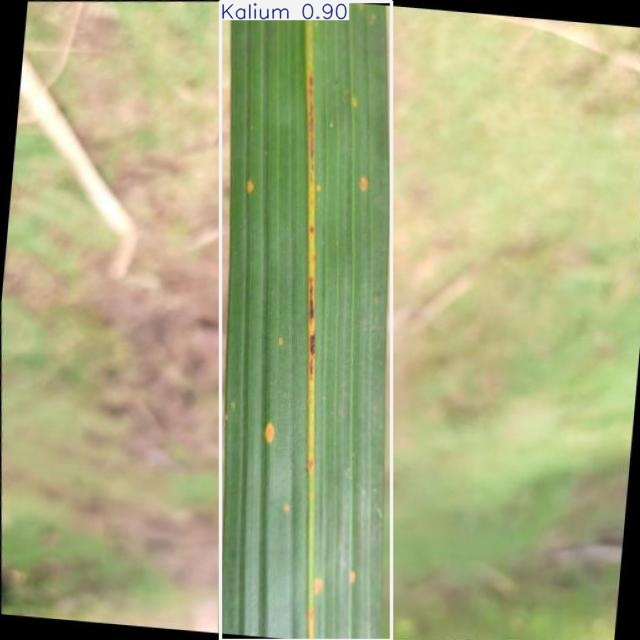Kalium: (221, 1, 392, 640)
